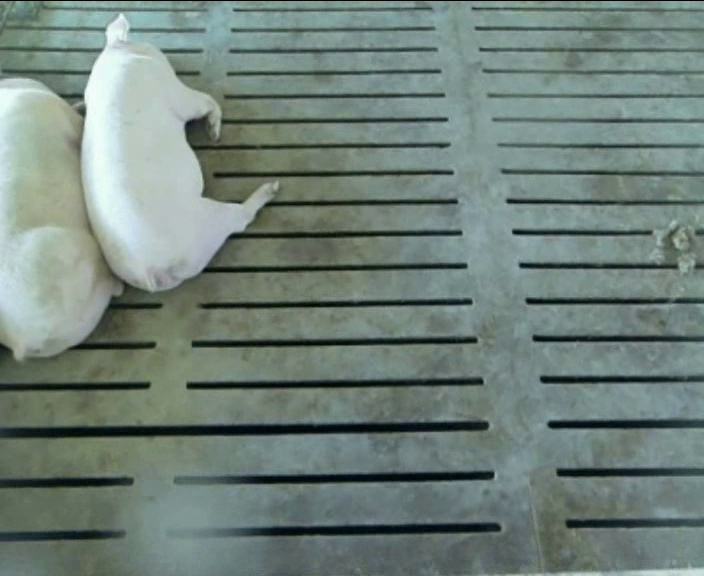pig: (82, 14, 278, 291)
